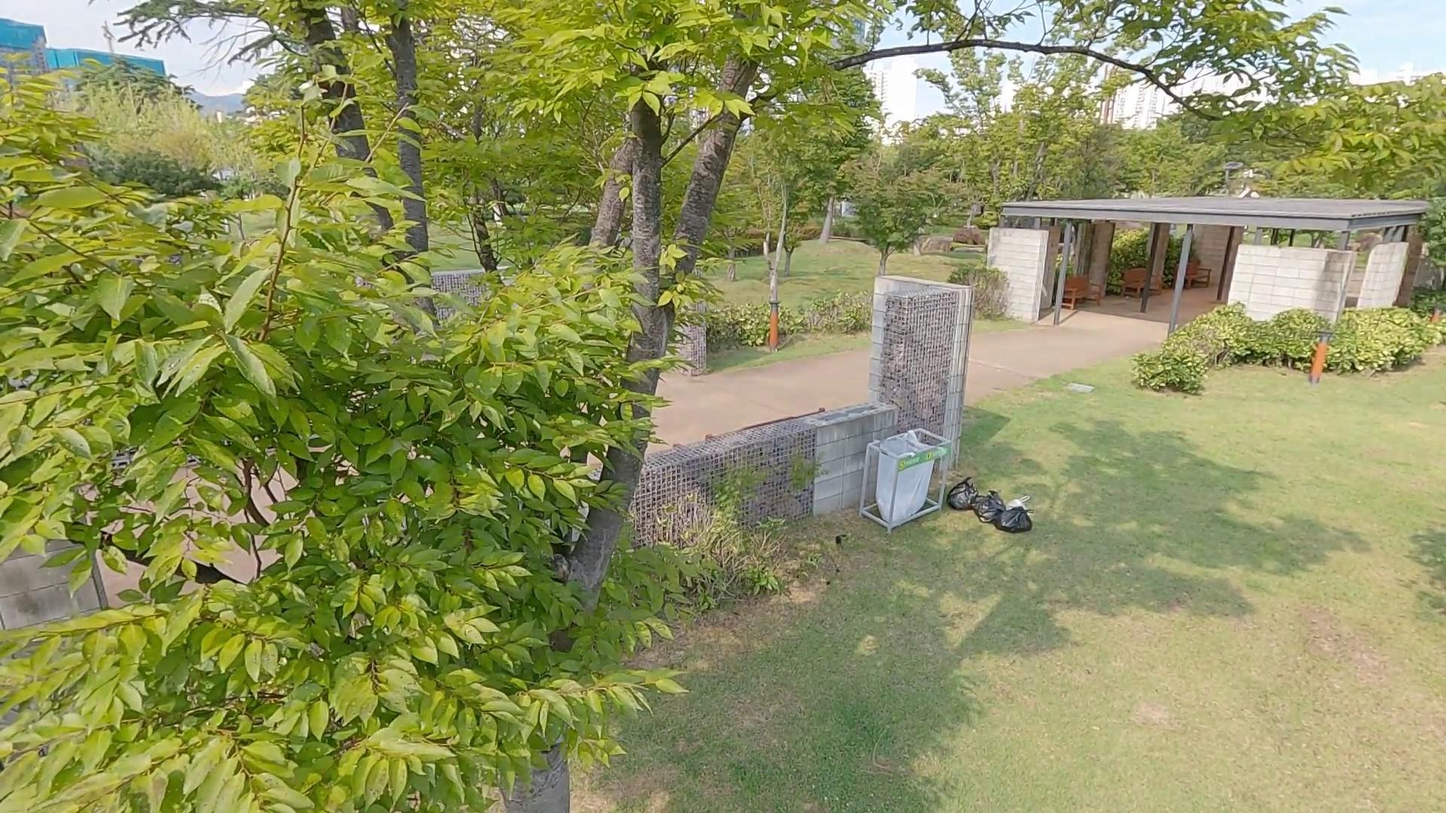trash: (972, 489, 1005, 522), (947, 475, 977, 508), (997, 506, 1033, 533), (1006, 495, 1034, 515)
